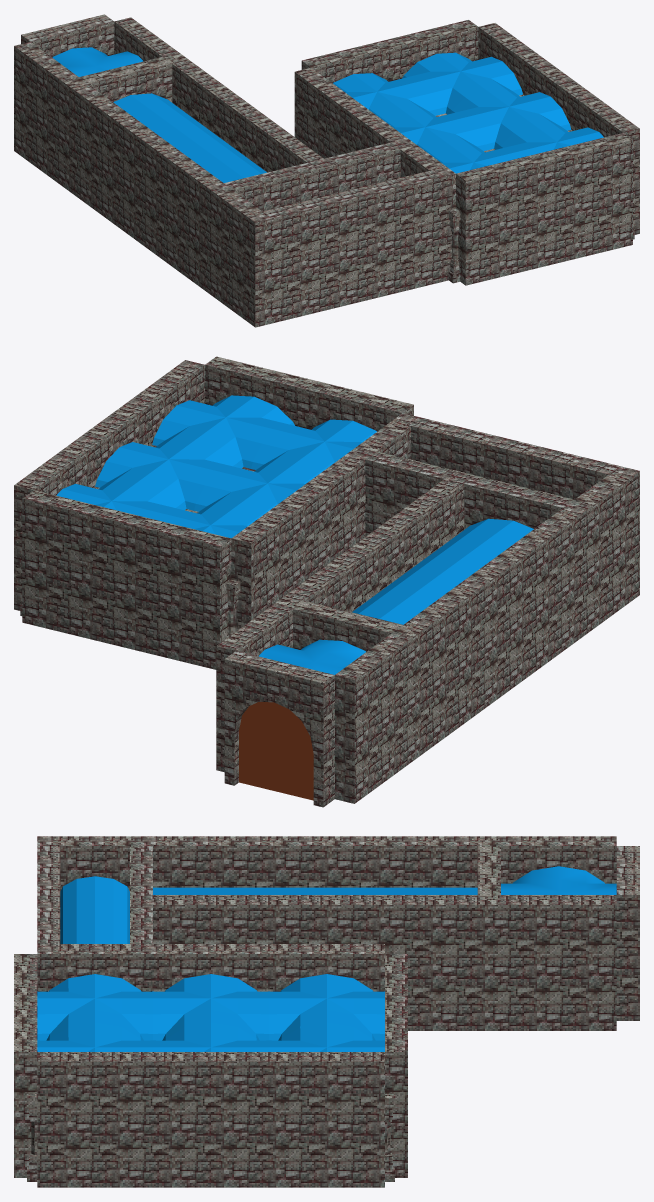
File: mod_temp_AiTest_01.fbx
3 renders of one model, top to bottom at view 1: azimuth 30°, elevation 25°; view 2: azimuth 150°, elevation 25°; view 3: azimuth 270°, elevation 25°, orthographic. The views are drawn at different scales.
Visible parts, largest first — view 1: OuterWall_Basic.206, Circle.012; view 2: OuterWall_Basic.206, Circle.012, OuterWall_Basic.319, OuterWall_Basic.318; view 3: OuterWall_Basic.206, Circle.012.
Boxes of the visible parts, x1,y1,x2,y2 form: OuterWall_Basic.206: (14, 14, 639, 327); Circle.012: (52, 47, 603, 182); OuterWall_Basic.206: (14, 356, 639, 807); Circle.012: (56, 395, 533, 674); OuterWall_Basic.319: (239, 702, 278, 791); OuterWall_Basic.318: (278, 705, 313, 800); OuterWall_Basic.206: (14, 836, 639, 1187); Circle.012: (37, 866, 616, 1051).
Bounding box in the file's own units: 23 × 6 × 27.
